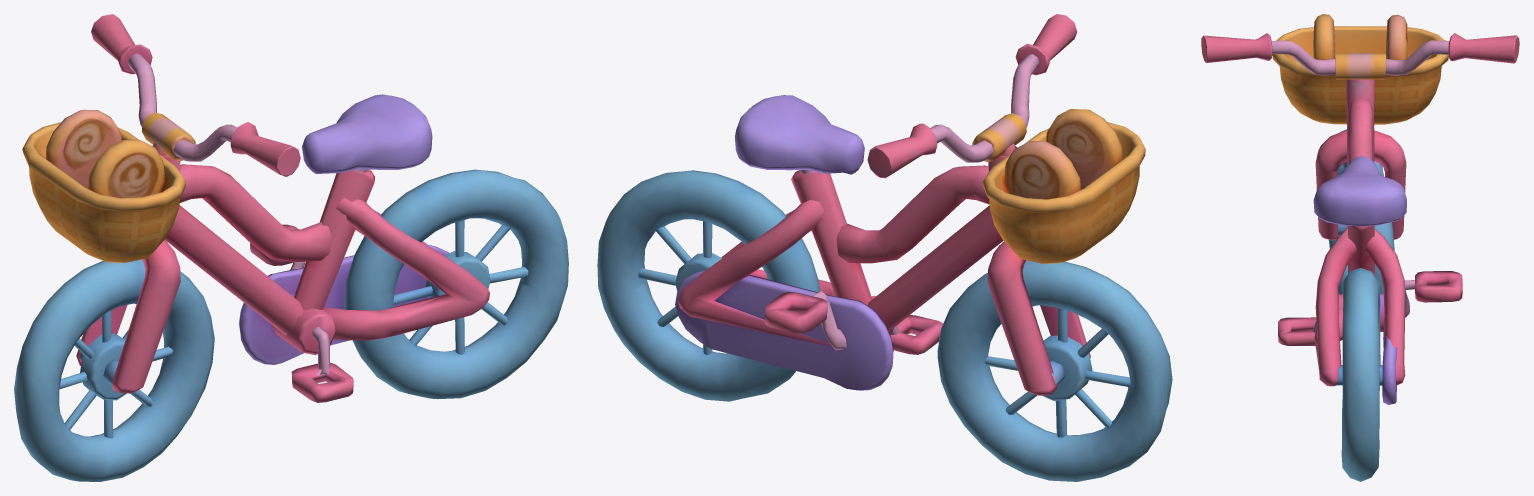
Rendered from bike.glb.
3 views of the same model, side by side, from view 1: azimuth 30°, elevation 25°; view 2: azimuth 150°, elevation 25°; view 3: azimuth 270°, elevation 25° (orthographic). The views are drawn at different scales.
Visible parts, largest first — view 1: geometry_0; view 2: geometry_0; view 3: geometry_0.
Part boxes in pixels (box(x1,y1,x2,y2)): geometry_0: box(14, 14, 568, 481); geometry_0: box(597, 14, 1172, 481); geometry_0: box(1201, 14, 1519, 481).
Bounding box in the file's own units: 1 × 0.6588 × 0.5849.
1 material, 1 textured.
